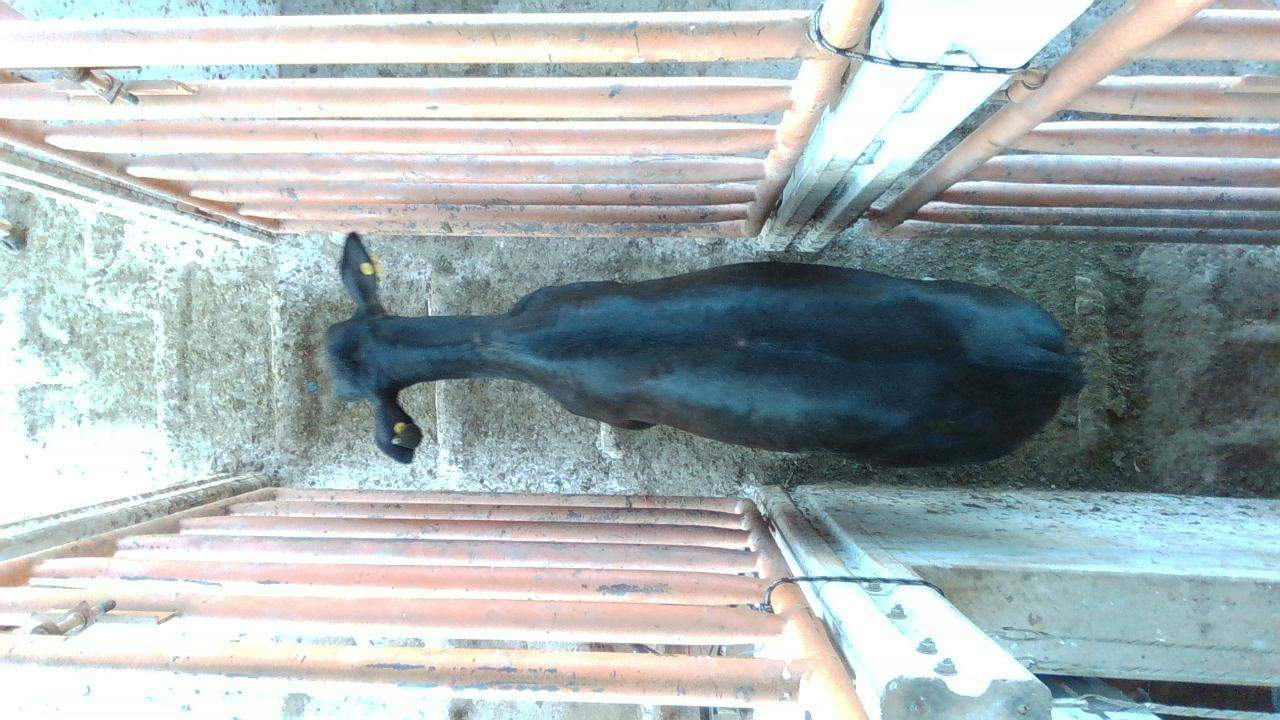cattle: (322, 229, 1087, 468)
